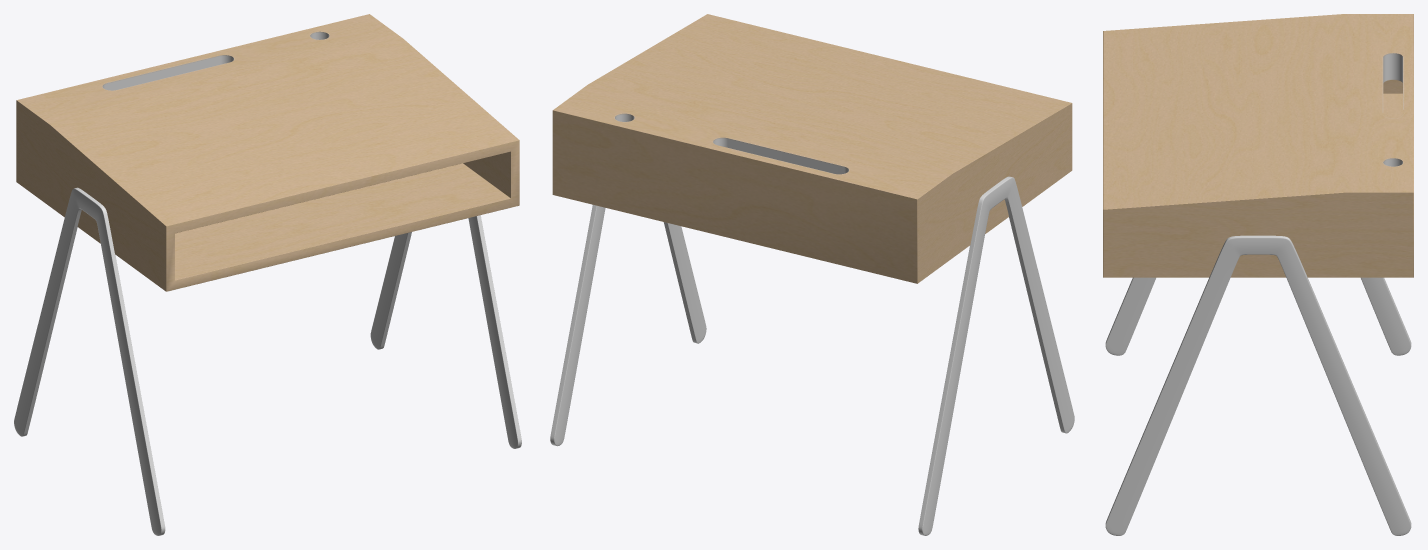
File: inwood_desk.gltf
3 views of the same model, side by side, from view 1: azimuth 30°, elevation 25°; view 2: azimuth 150°, elevation 25°; view 3: azimuth 270°, elevation 25° (orthographic). The views are drawn at different scales.
Parts seen in each view (by area): view 1: inwood_desk2; view 2: inwood_desk2; view 3: inwood_desk2.
Boxes of the visible parts, left/top/right/bottom form: inwood_desk2: left=14, top=14, right=521, bottom=535; inwood_desk2: left=550, top=14, right=1074, bottom=535; inwood_desk2: left=1103, top=14, right=1413, bottom=535.
Size of the model in its own units: 0.5986 by 0.5212 by 0.43.
1 material, 1 textured.
